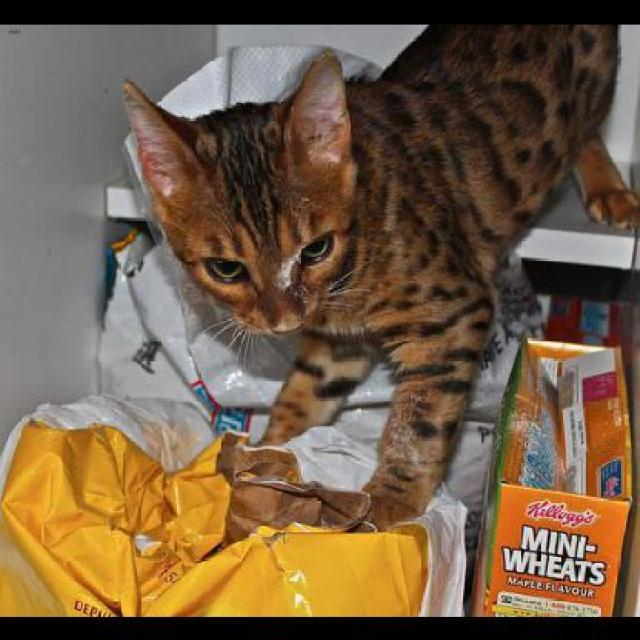unauthorized: (119, 23, 638, 532)
